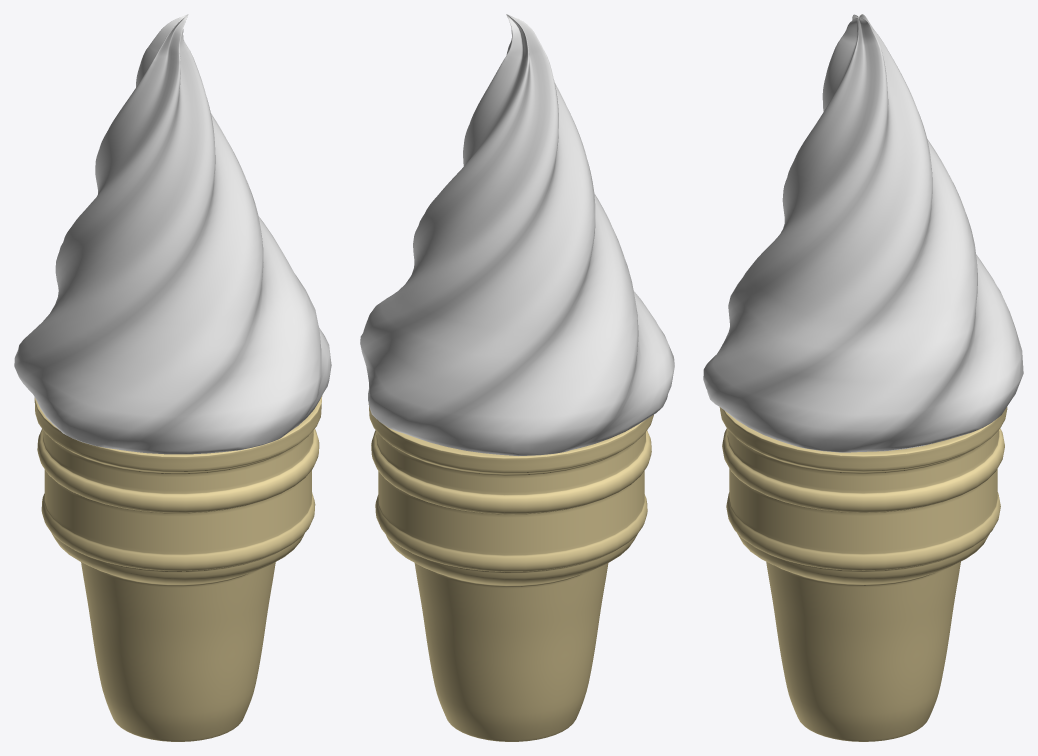
Rendered from icecream.glb.
The picture shows the model from 3 angles, left to right: view 1: azimuth 30°, elevation 25°; view 2: azimuth 150°, elevation 25°; view 3: azimuth 270°, elevation 25°; orthographic projection.
Parts seen in each view (by area): view 1: ice_cream_smooth.001; view 2: ice_cream_smooth.001; view 3: ice_cream_smooth.001.
Part boxes in pixels (left/top/right/bottom): ice_cream_smooth.001: left=14, top=14, right=331, bottom=741; ice_cream_smooth.001: left=360, top=14, right=674, bottom=741; ice_cream_smooth.001: left=703, top=14, right=1023, bottom=741.
Bounding box in the file's own units: 0.2412 × 0.5945 × 0.2459.
